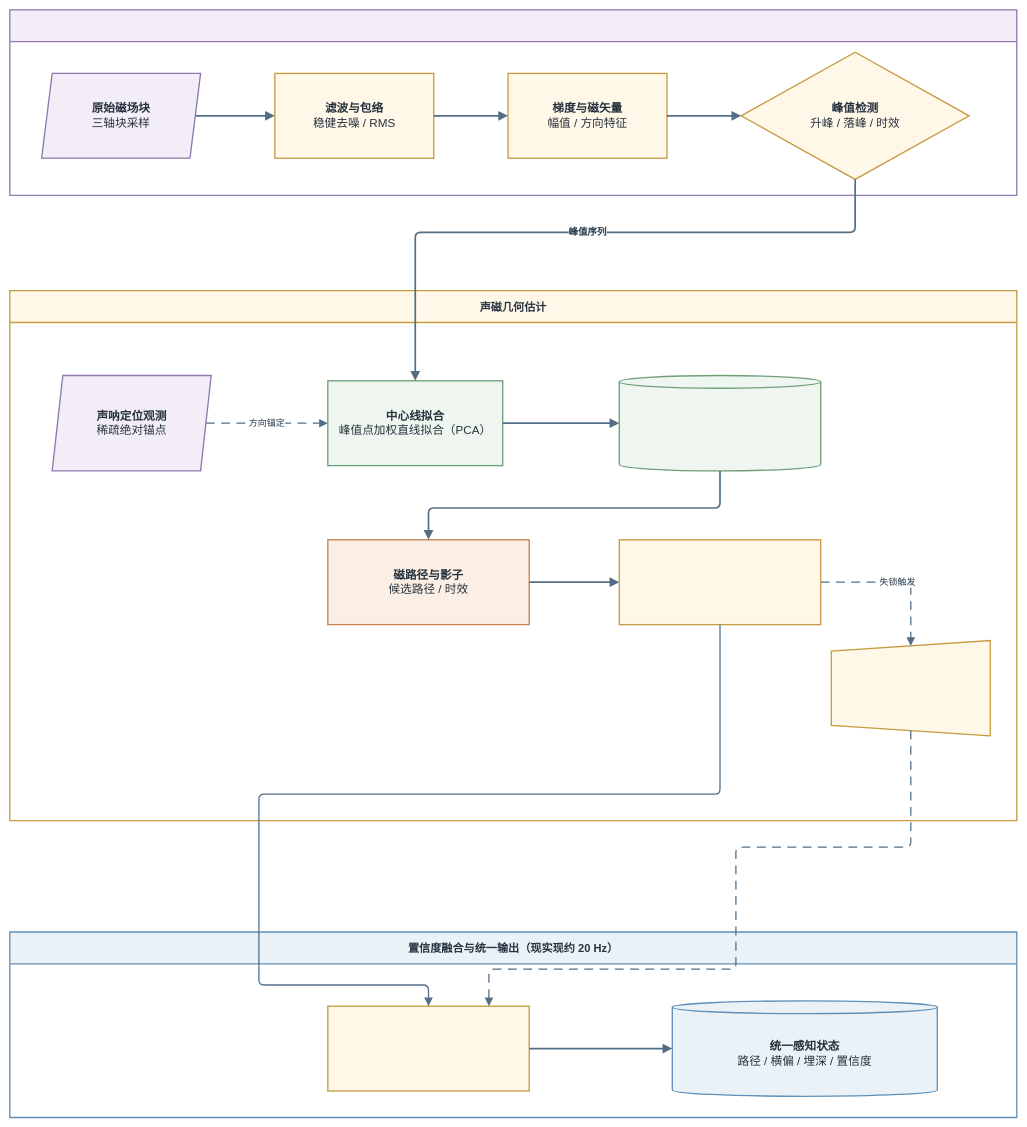
This 1027x1127 diagram has some shape labels left out. Here are the shapes that lost their labels. From the top down, the box of each, then its label:
(9, 9, 1017, 196): 高频磁采样与特征提取（现实现 200 Hz）
(618, 375, 821, 471): 局部路径几何 中心线 / 前视
(618, 539, 821, 625): 横偏与埋深 近过线反演 / 质量
(830, 640, 991, 736): 失锁重捕区 有界候选区域
(327, 1005, 530, 1091): 置信度融合 质量 / 新鲜度 / 一致性
